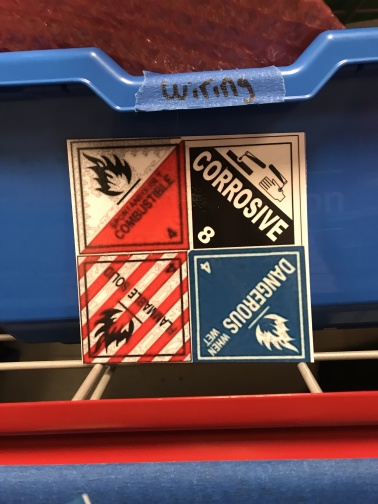Corrosive: (188, 136, 305, 250)
DangerousWhenWet: (189, 247, 311, 364)
FlammableSolid: (75, 251, 192, 363)
SpontaneouslyCombustible: (69, 138, 189, 250)
